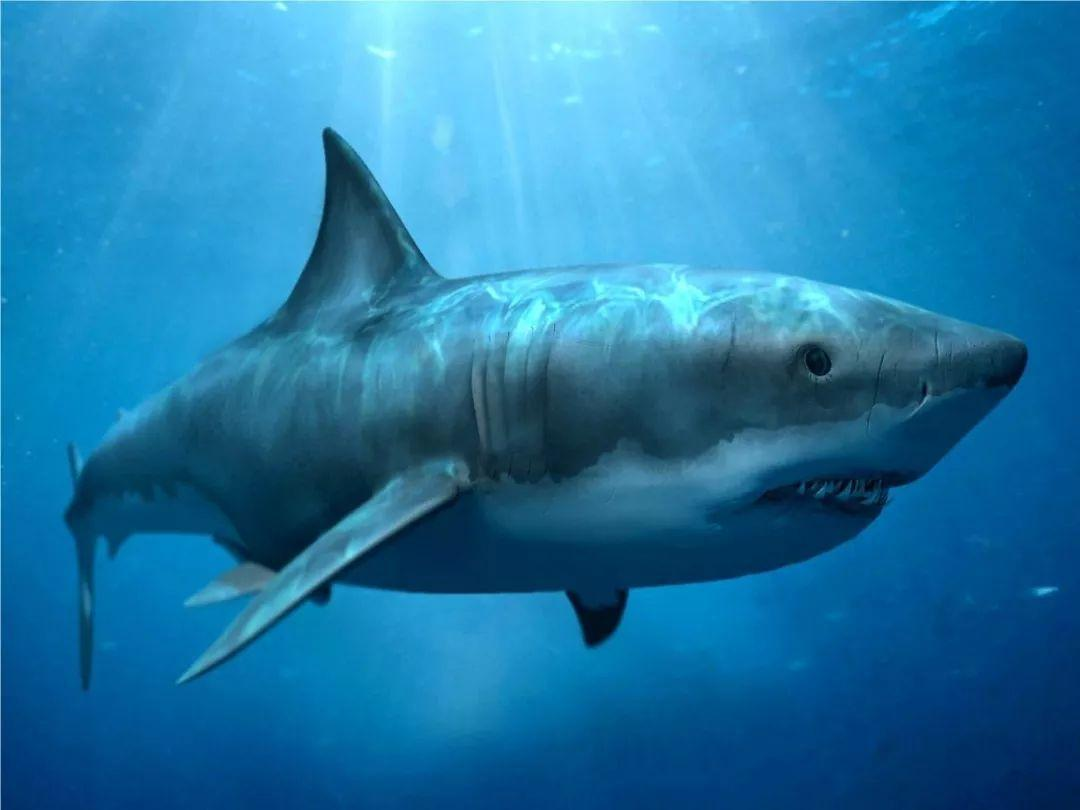fish: (54, 79, 1028, 675)
